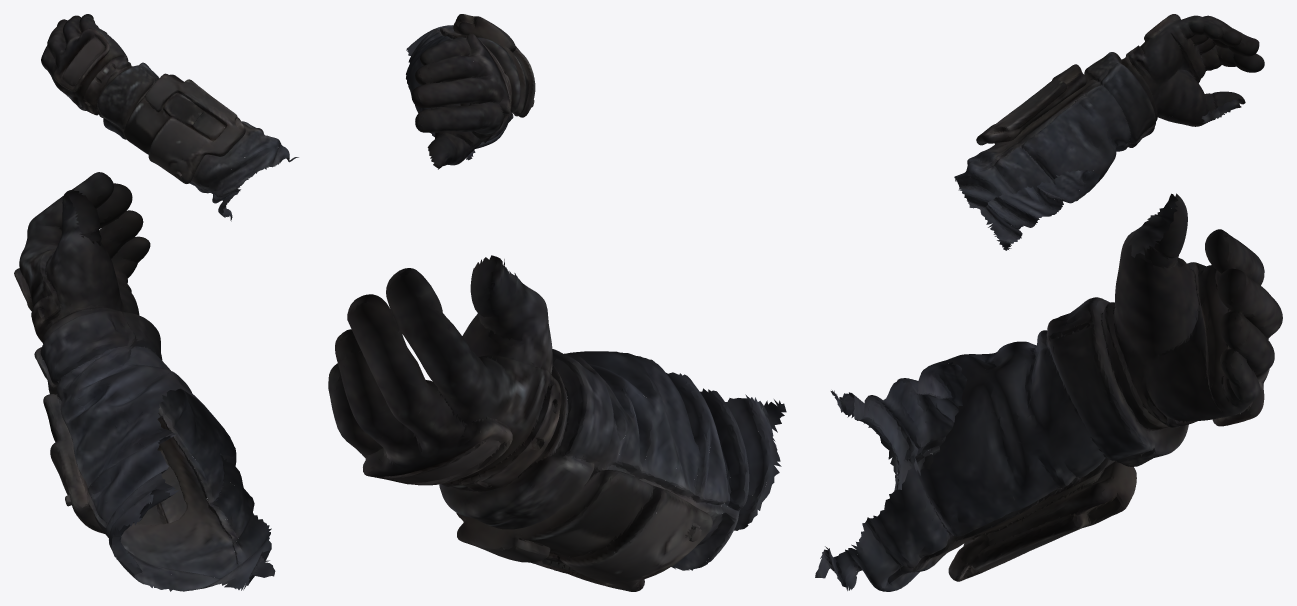
File: winter_operator_character_arms_v2.glb
3 renders of one model, left to right at view 1: azimuth 30°, elevation 25°; view 2: azimuth 150°, elevation 25°; view 3: azimuth 270°, elevation 25°, orthographic. The views are drawn at different scales.
Parts seen in each view (by area): view 1: Left_OperatorSleeveGlove, Right_OperatorSleeveGlove; view 2: Left_OperatorSleeveGlove, Right_OperatorSleeveGlove; view 3: Left_OperatorSleeveGlove, Right_OperatorSleeveGlove.
Boxes of the visible parts, x1,y1,x2,y2 form: Left_OperatorSleeveGlove: (14, 172, 275, 591); Right_OperatorSleeveGlove: (41, 14, 298, 221); Left_OperatorSleeveGlove: (328, 255, 786, 591); Right_OperatorSleeveGlove: (406, 14, 535, 169); Left_OperatorSleeveGlove: (815, 193, 1282, 591); Right_OperatorSleeveGlove: (954, 14, 1264, 250).
Size of the model in its own units: 0.3042 by 0.6057 by 0.4497.
1 material, 1 textured.
